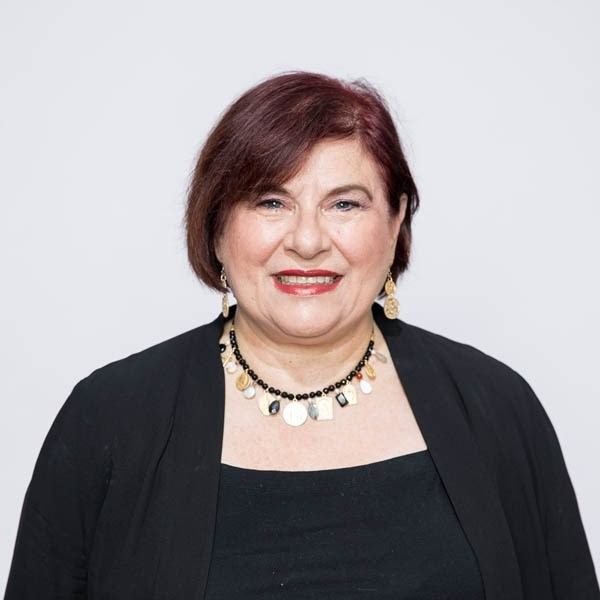face_no_mask: (187, 73, 410, 344)
